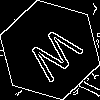W: (25, 25, 91, 90)
